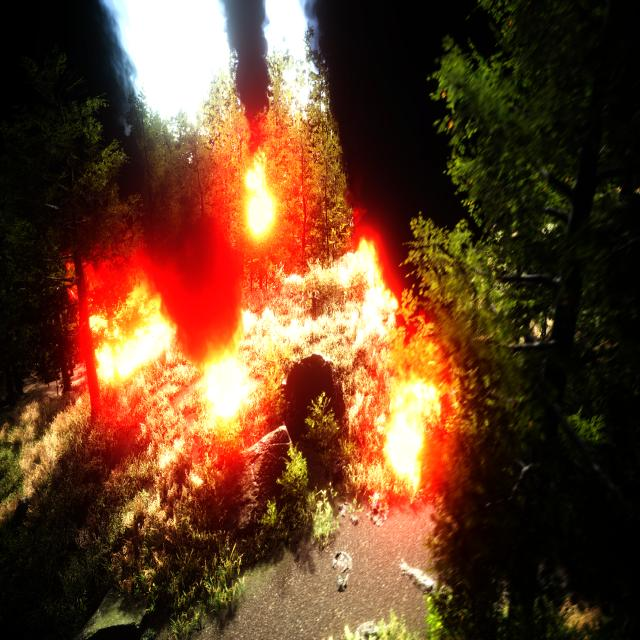Human: (305, 285, 323, 324)
